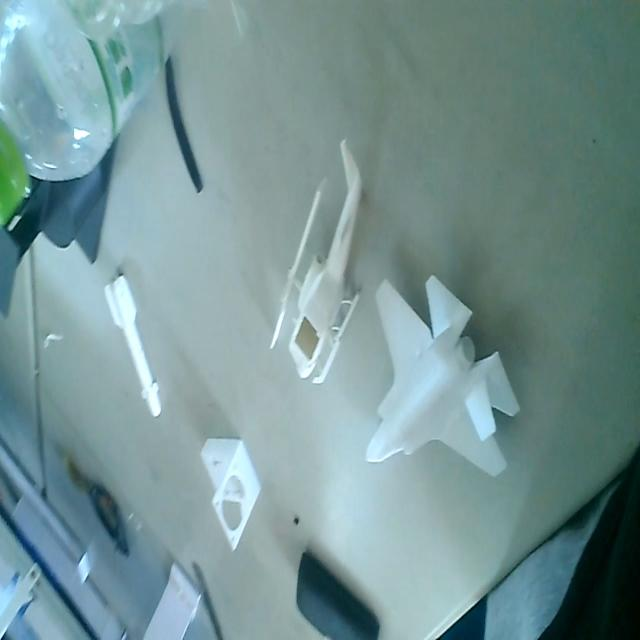Helicopter: (268, 137, 368, 400)
Jet: (362, 272, 522, 502)
Rocket: (100, 269, 168, 426)
